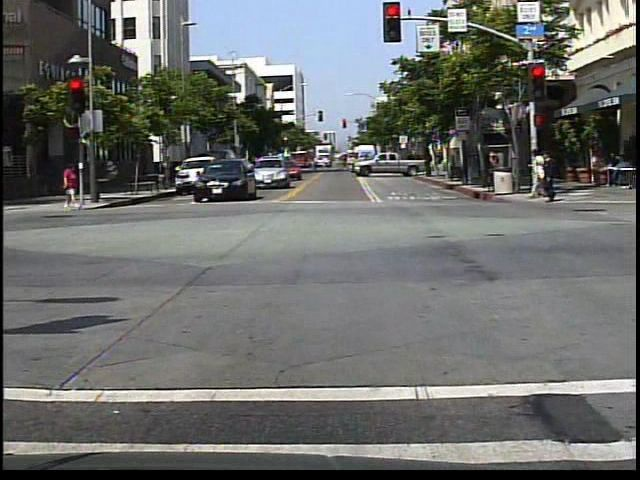person: (536, 149, 564, 207), (526, 146, 547, 201), (61, 161, 82, 213)
